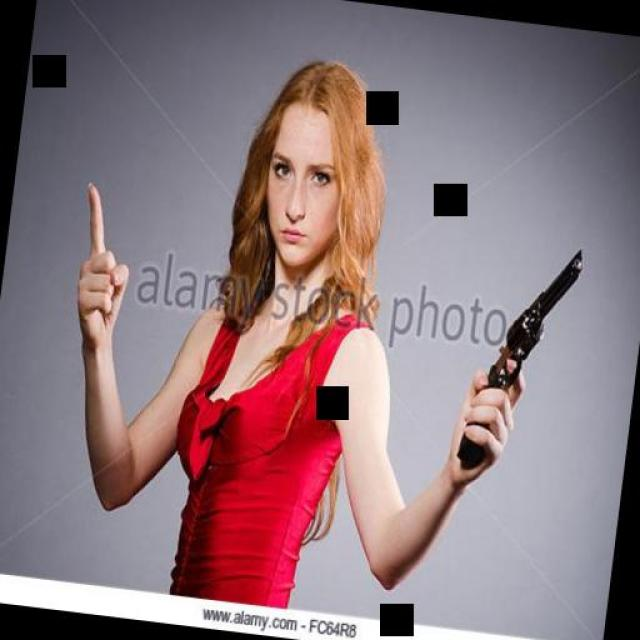gun: (447, 222, 588, 482)
